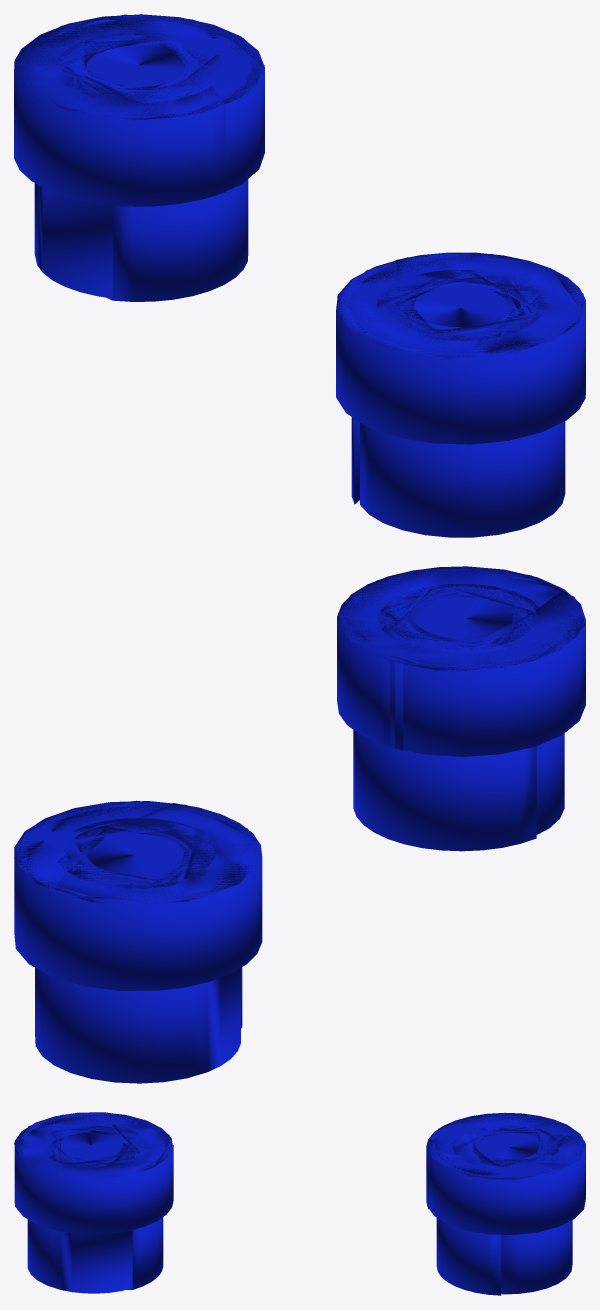
The model's file is tuyeau_element_000045.obj.
3 views of the same model, one above another, from view 1: azimuth 30°, elevation 25°; view 2: azimuth 150°, elevation 25°; view 3: azimuth 270°, elevation 25° (orthographic). The views are drawn at different scales.
Parts seen in each view (by area): view 1: tuyeau1_Cube.014, tuyeau2_Cube.017; view 2: tuyeau2_Cube.017, tuyeau1_Cube.014; view 3: tuyeau1_Cube.014, tuyeau2_Cube.017.
Part boxes in pixels (box(x1,y1,x2,y2)): tuyeau1_Cube.014: box(14, 14, 264, 301); tuyeau2_Cube.017: box(336, 252, 585, 537); tuyeau2_Cube.017: box(337, 566, 585, 851); tuyeau1_Cube.014: box(14, 800, 262, 1083); tuyeau1_Cube.014: box(426, 1112, 585, 1295); tuyeau2_Cube.017: box(14, 1112, 173, 1293).
Size of the model in its own units: 3554 by 2917 by 12622.
